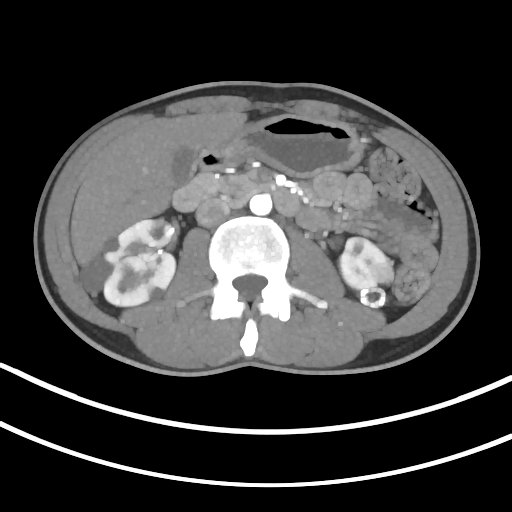Lesion: (372, 259, 397, 284)
